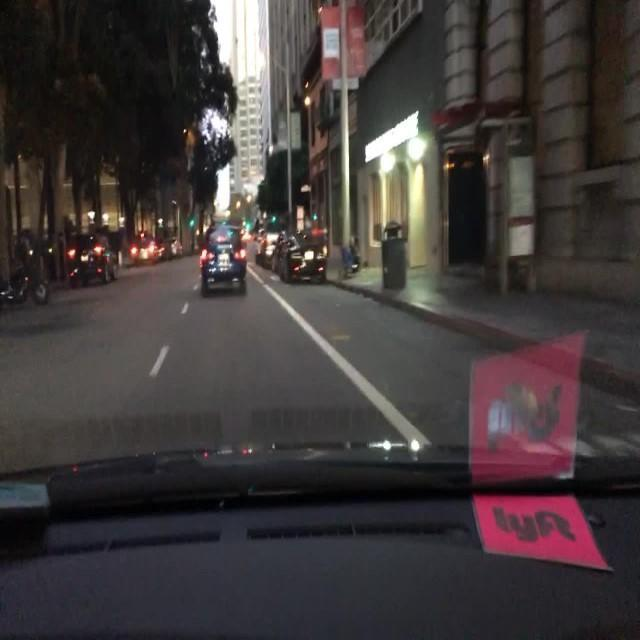normal: (273, 232, 328, 285), (199, 247, 247, 295)
